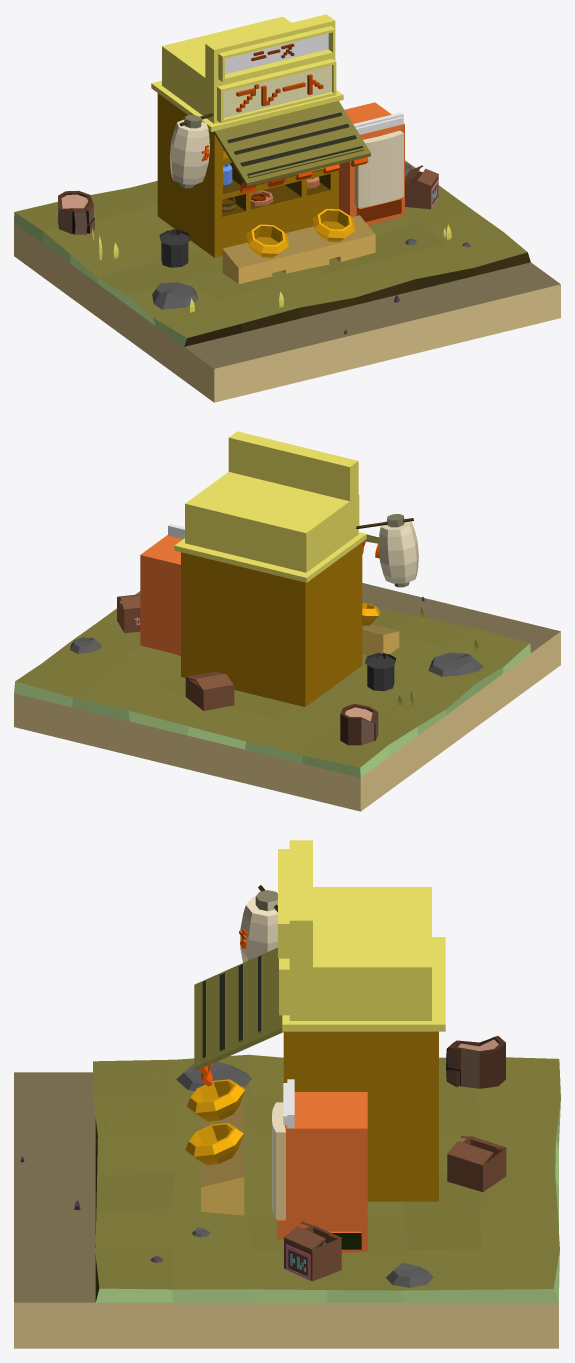
The model's file is tenderete.fbx.
3 renders of one model, top to bottom at view 1: azimuth 30°, elevation 25°; view 2: azimuth 150°, elevation 25°; view 3: azimuth 270°, elevation 25°, orthographic. The views are drawn at different scales.
Parts seen in each view (by area): view 1: Cube; view 2: Cube; view 3: Cube.
Part boxes in pixels (x1,y1,x2,y2): Cube: (14,14,560,402); Cube: (14,431,560,811); Cube: (14,840,560,1348).
Size of the model in its own units: 1070 by 742 by 1065.
